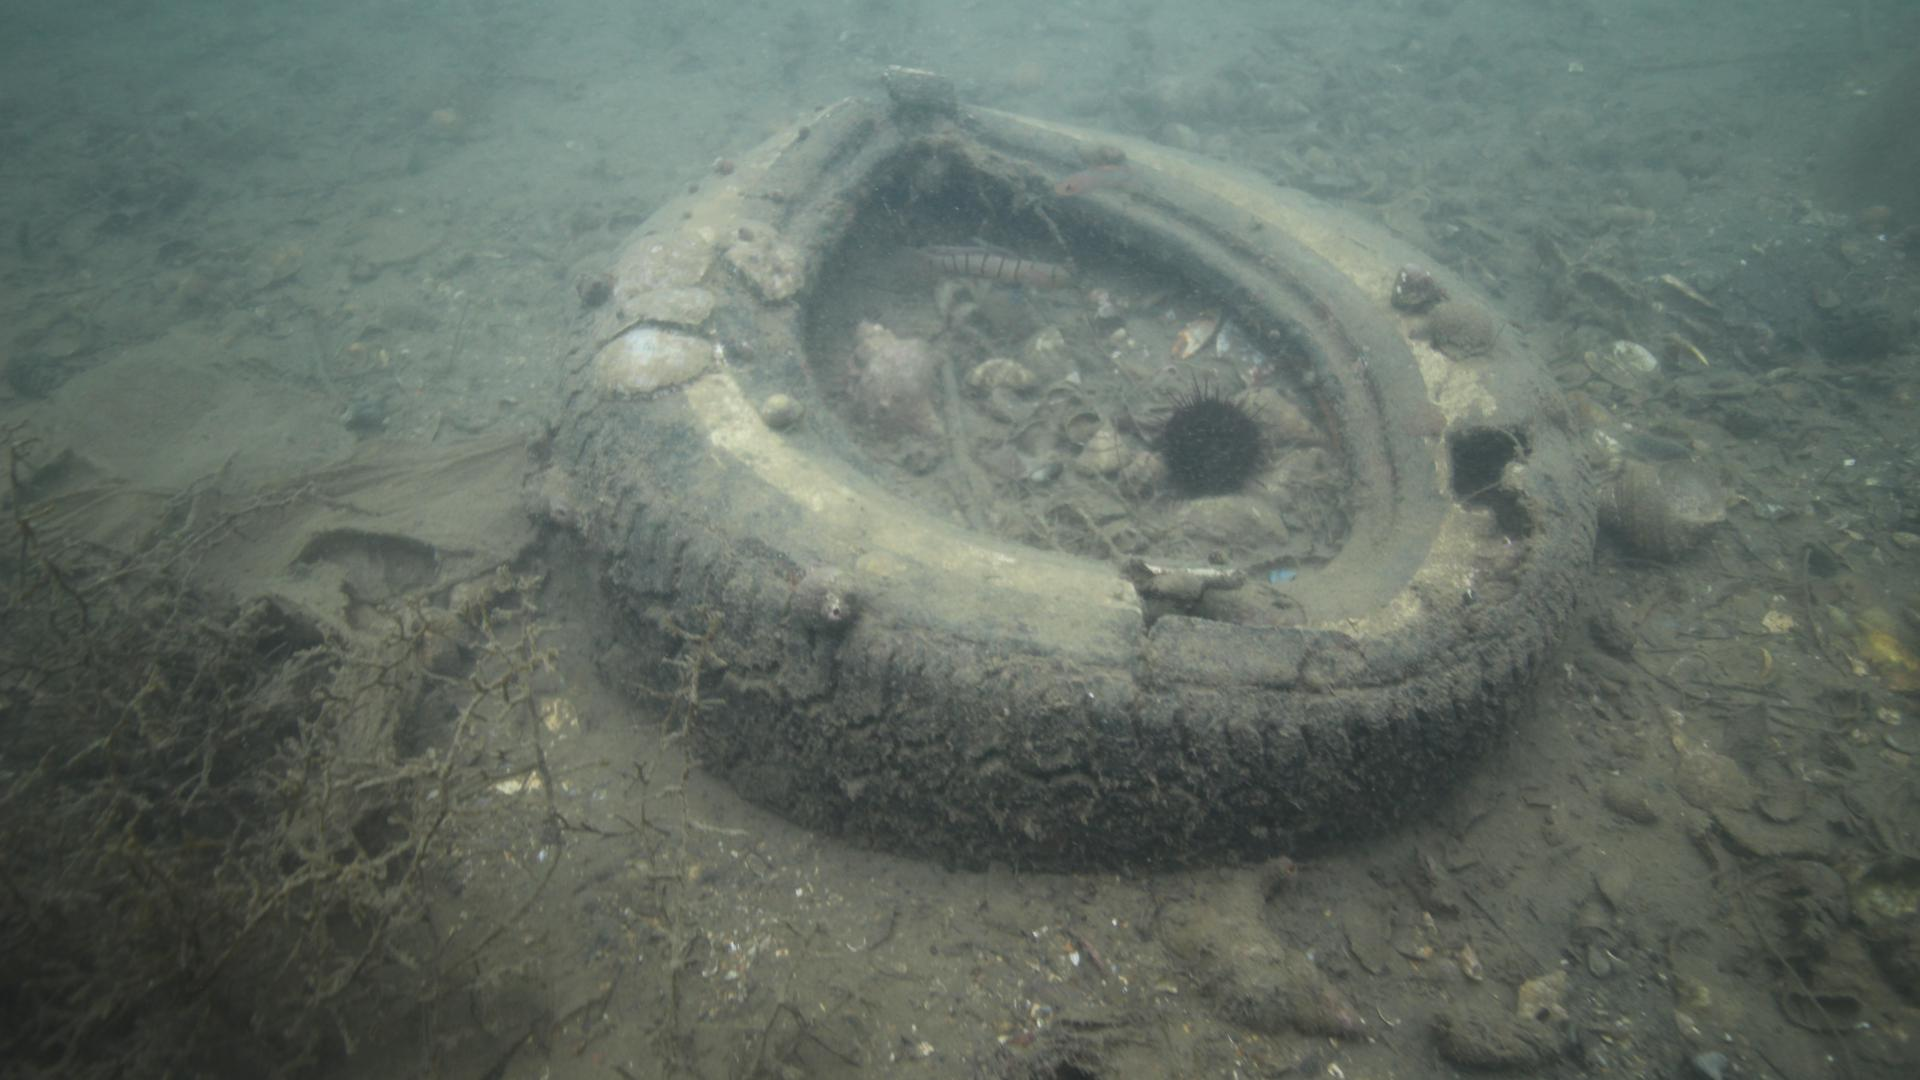tire: (556, 61, 1597, 873)
